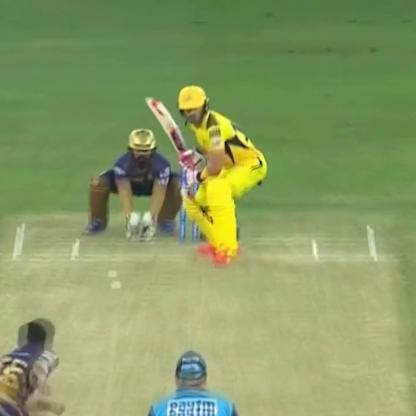ball: (106, 278, 123, 292), (100, 265, 118, 277)
pitch: (5, 215, 413, 415)
